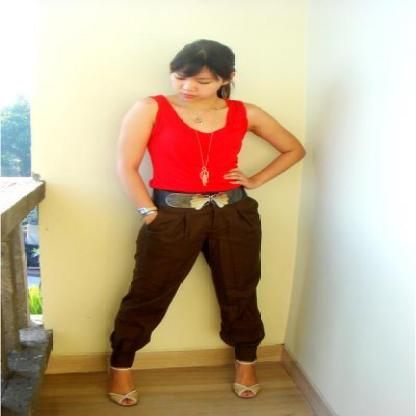pants: (109, 202, 264, 367)
shirt: (146, 95, 246, 191)
shoe: (112, 385, 136, 403)
